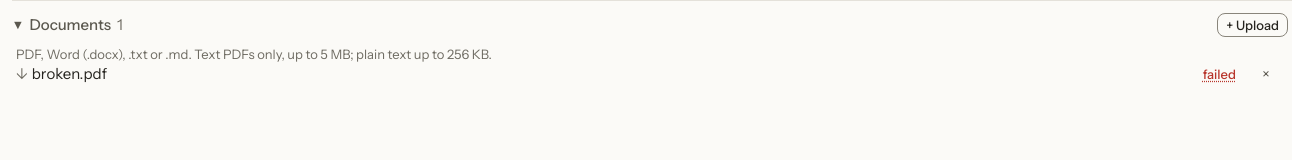
DocumentsPanel status labels › reveals a failed row's reason only after clicking 'failed'
Expected: the text "broken.pdf" is shown, [32,63,107,85]
Click the button "failed" at (1219, 74), box [1203,65,1236,83]
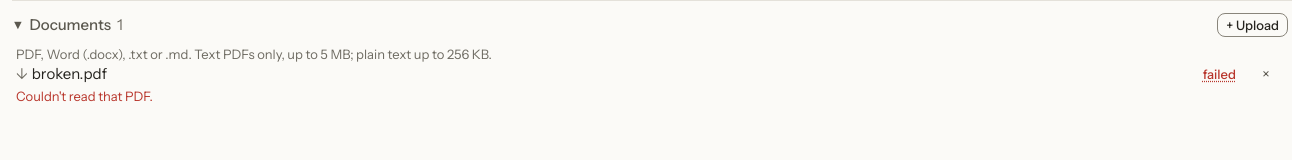
Now the text "Couldn't read that PDF." is shown, box [16,88,153,104]
